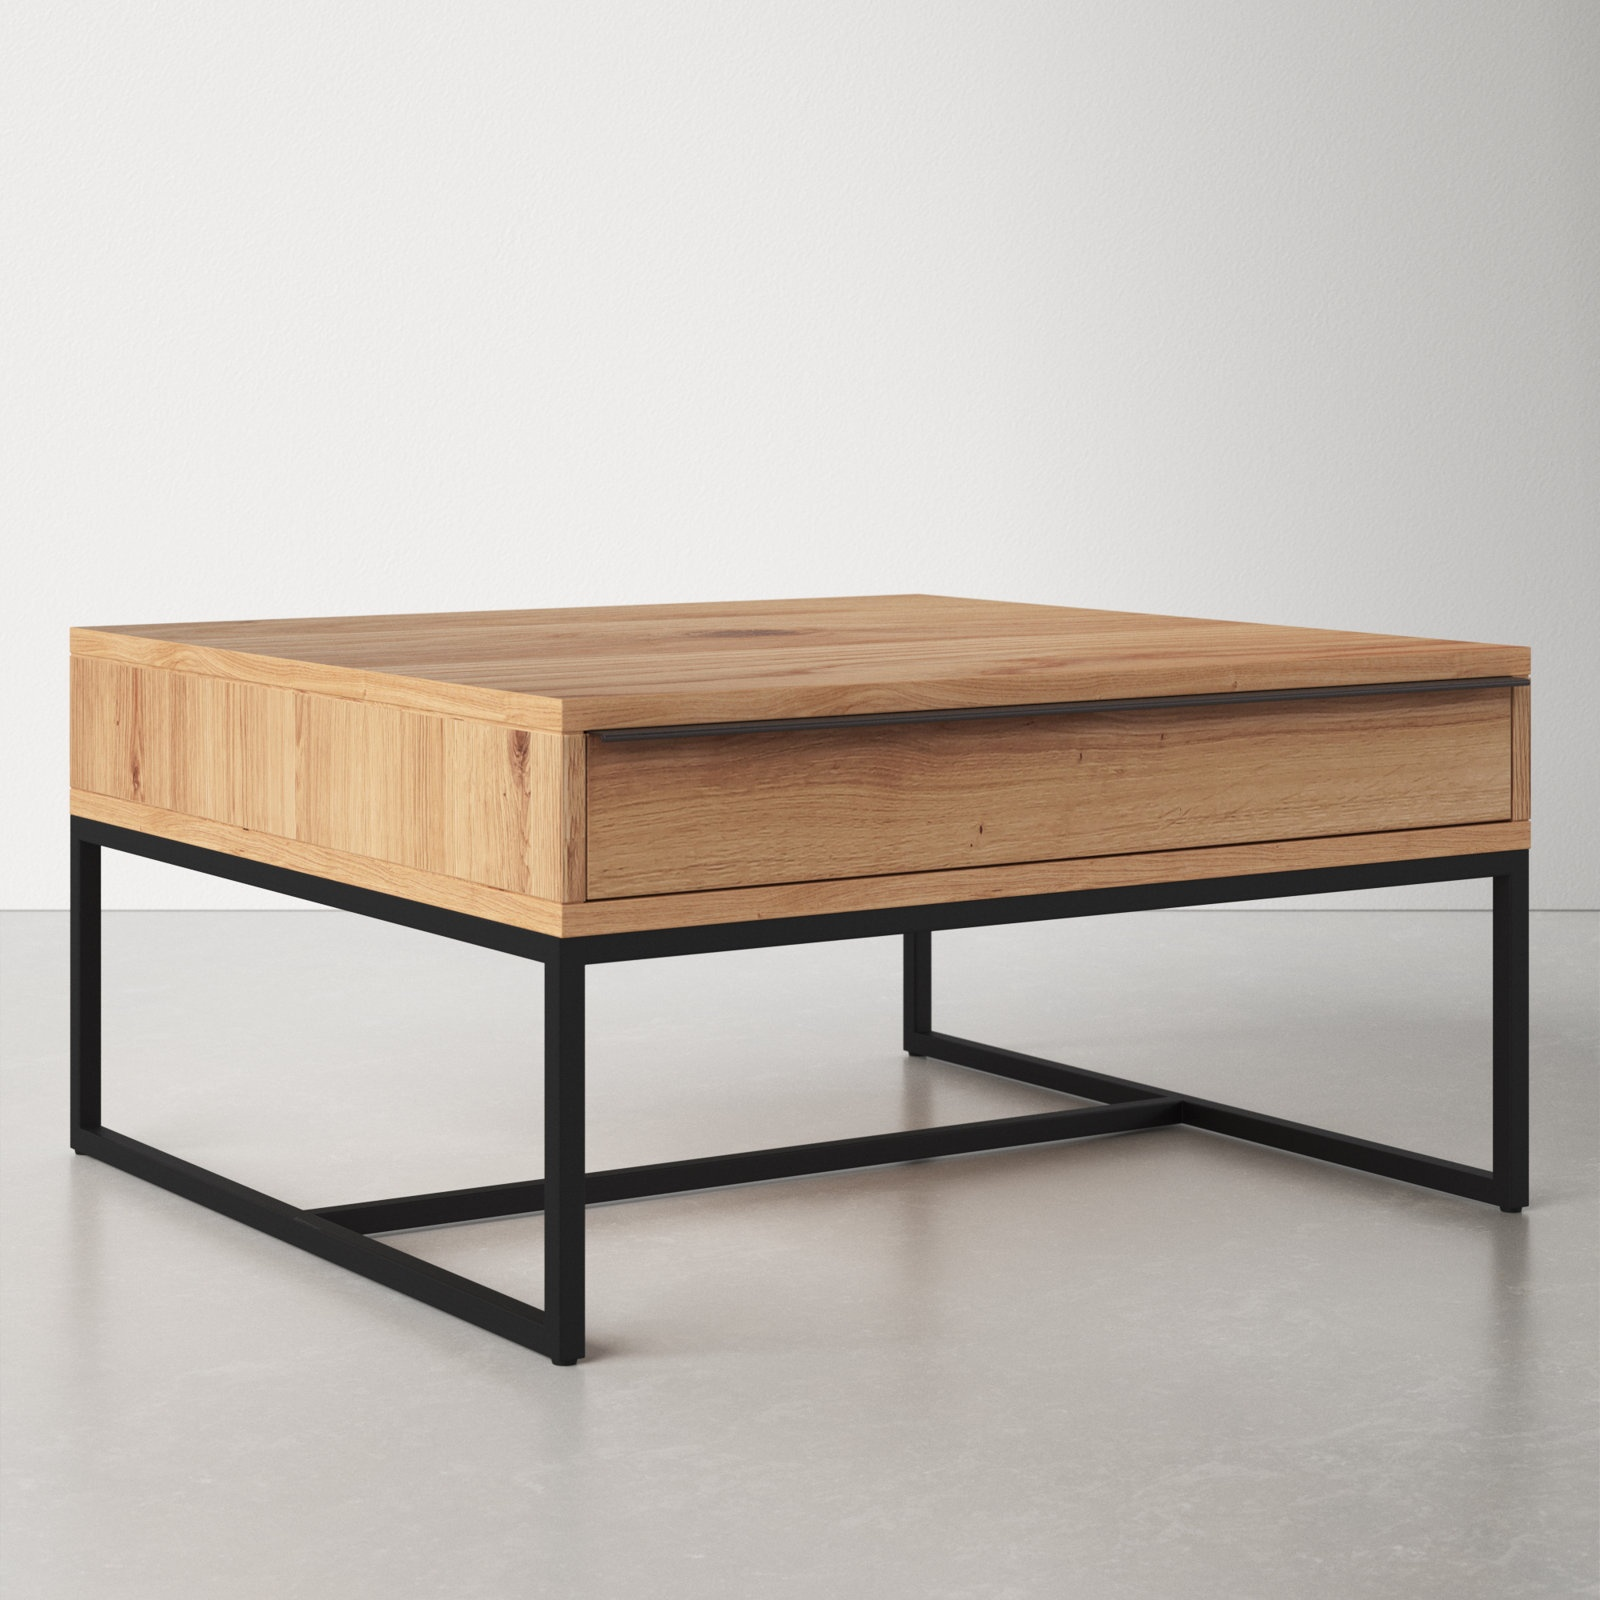obstacle: (70, 595, 1530, 1363)
